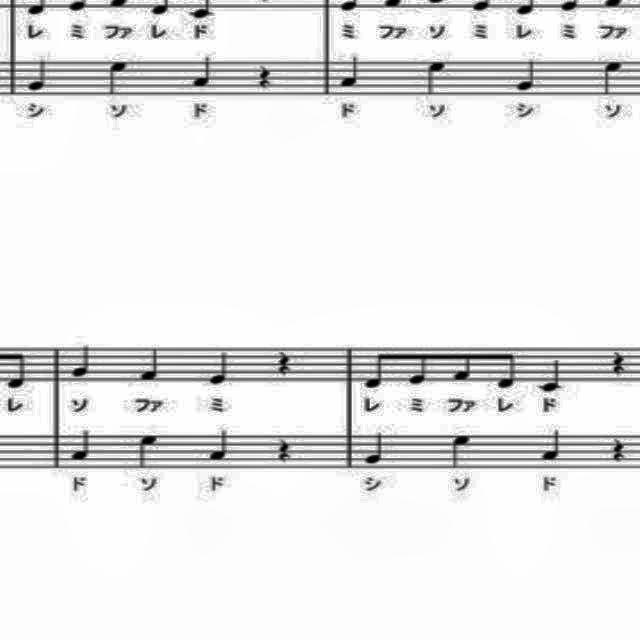Eighth-note: (0, 342, 30, 398), (359, 344, 391, 394), (444, 349, 476, 386), (494, 344, 518, 392), (406, 344, 432, 388)
Quarter-note: (359, 428, 396, 472), (65, 341, 103, 383), (136, 342, 172, 386), (596, 58, 628, 102), (188, 52, 220, 92), (446, 431, 474, 473), (338, 53, 364, 97), (22, 56, 50, 96), (106, 59, 134, 99), (514, 54, 542, 94), (206, 346, 234, 386), (206, 426, 234, 466), (421, 56, 449, 94), (66, 427, 94, 465), (536, 356, 562, 396), (137, 432, 163, 472), (540, 426, 566, 466)
Quarter-rest: (273, 344, 295, 384), (606, 430, 630, 466), (254, 59, 278, 93), (610, 344, 630, 382), (277, 435, 295, 465)
